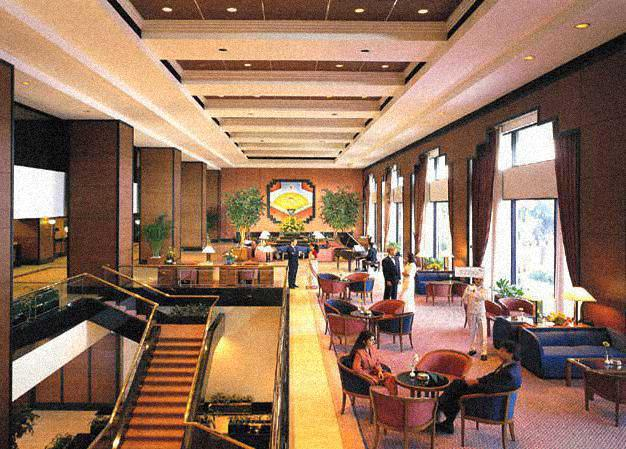Puerta: (434, 347, 522, 437), (350, 325, 391, 395), (460, 274, 488, 357), (379, 243, 399, 296), (398, 253, 414, 302)
